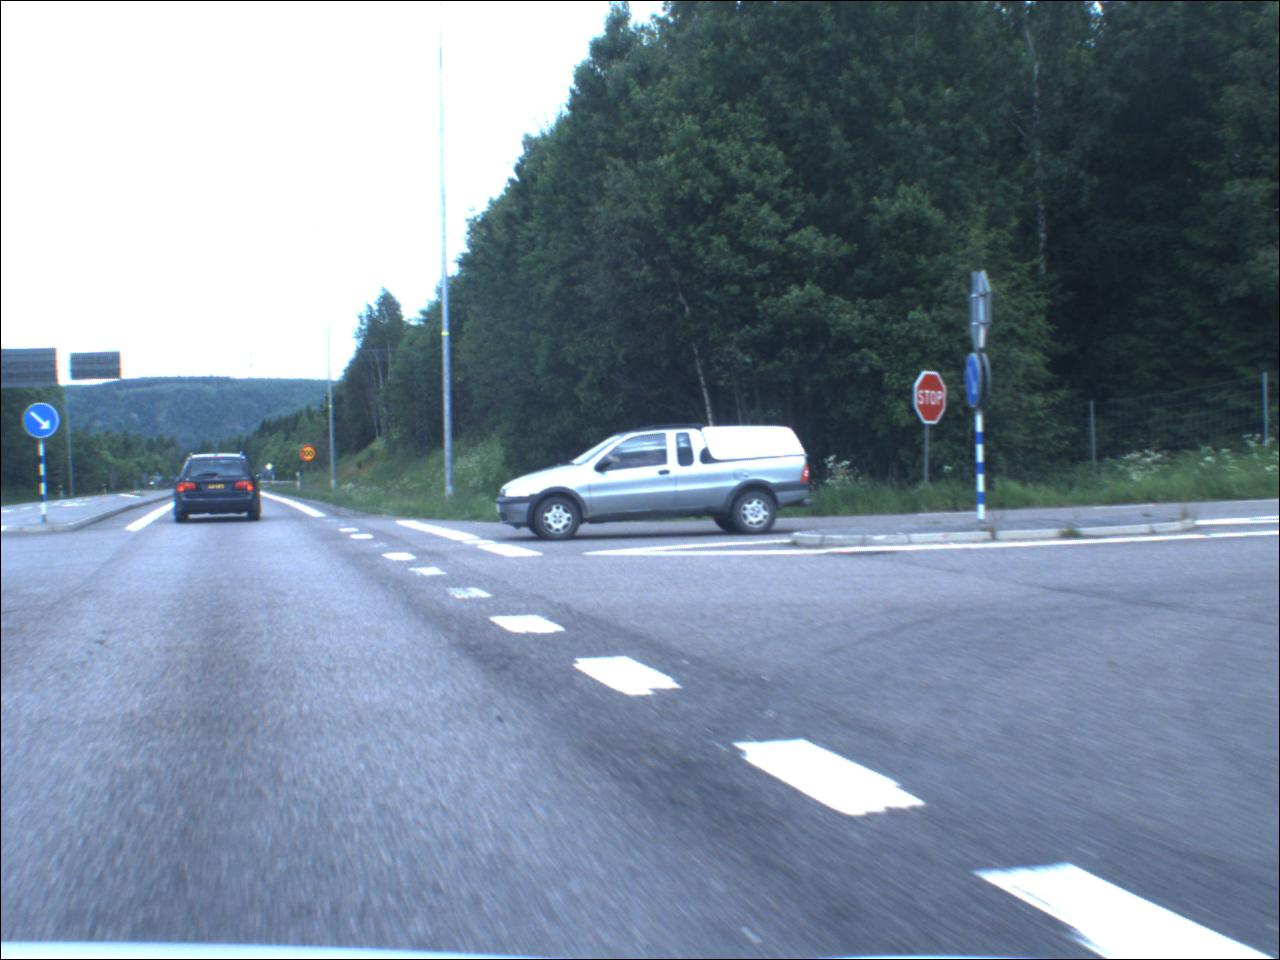100_SIGN: (302, 446, 321, 464)
PASS_RIGHT_SIDE: (23, 404, 65, 440), (964, 355, 988, 412)
STOP: (917, 373, 951, 426)
